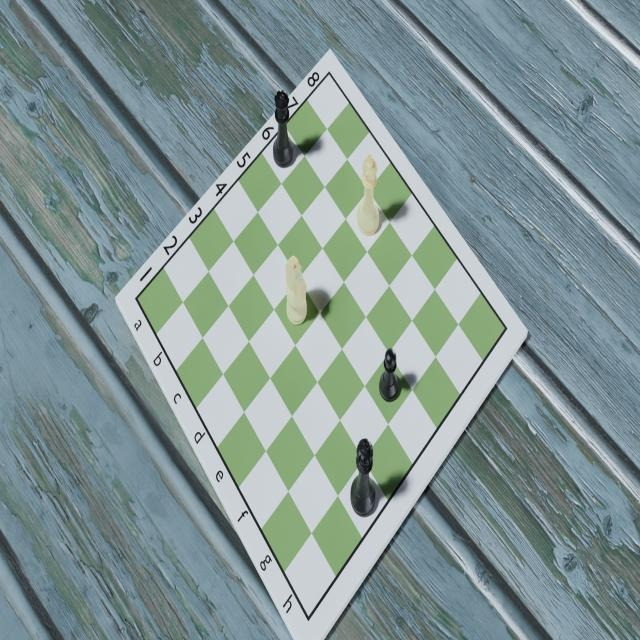black-king: (349, 434, 379, 519)
black-pawn: (377, 343, 401, 405)
black-queen: (270, 89, 295, 171)
white-king: (355, 154, 382, 238)
white-knight: (282, 250, 310, 330)
